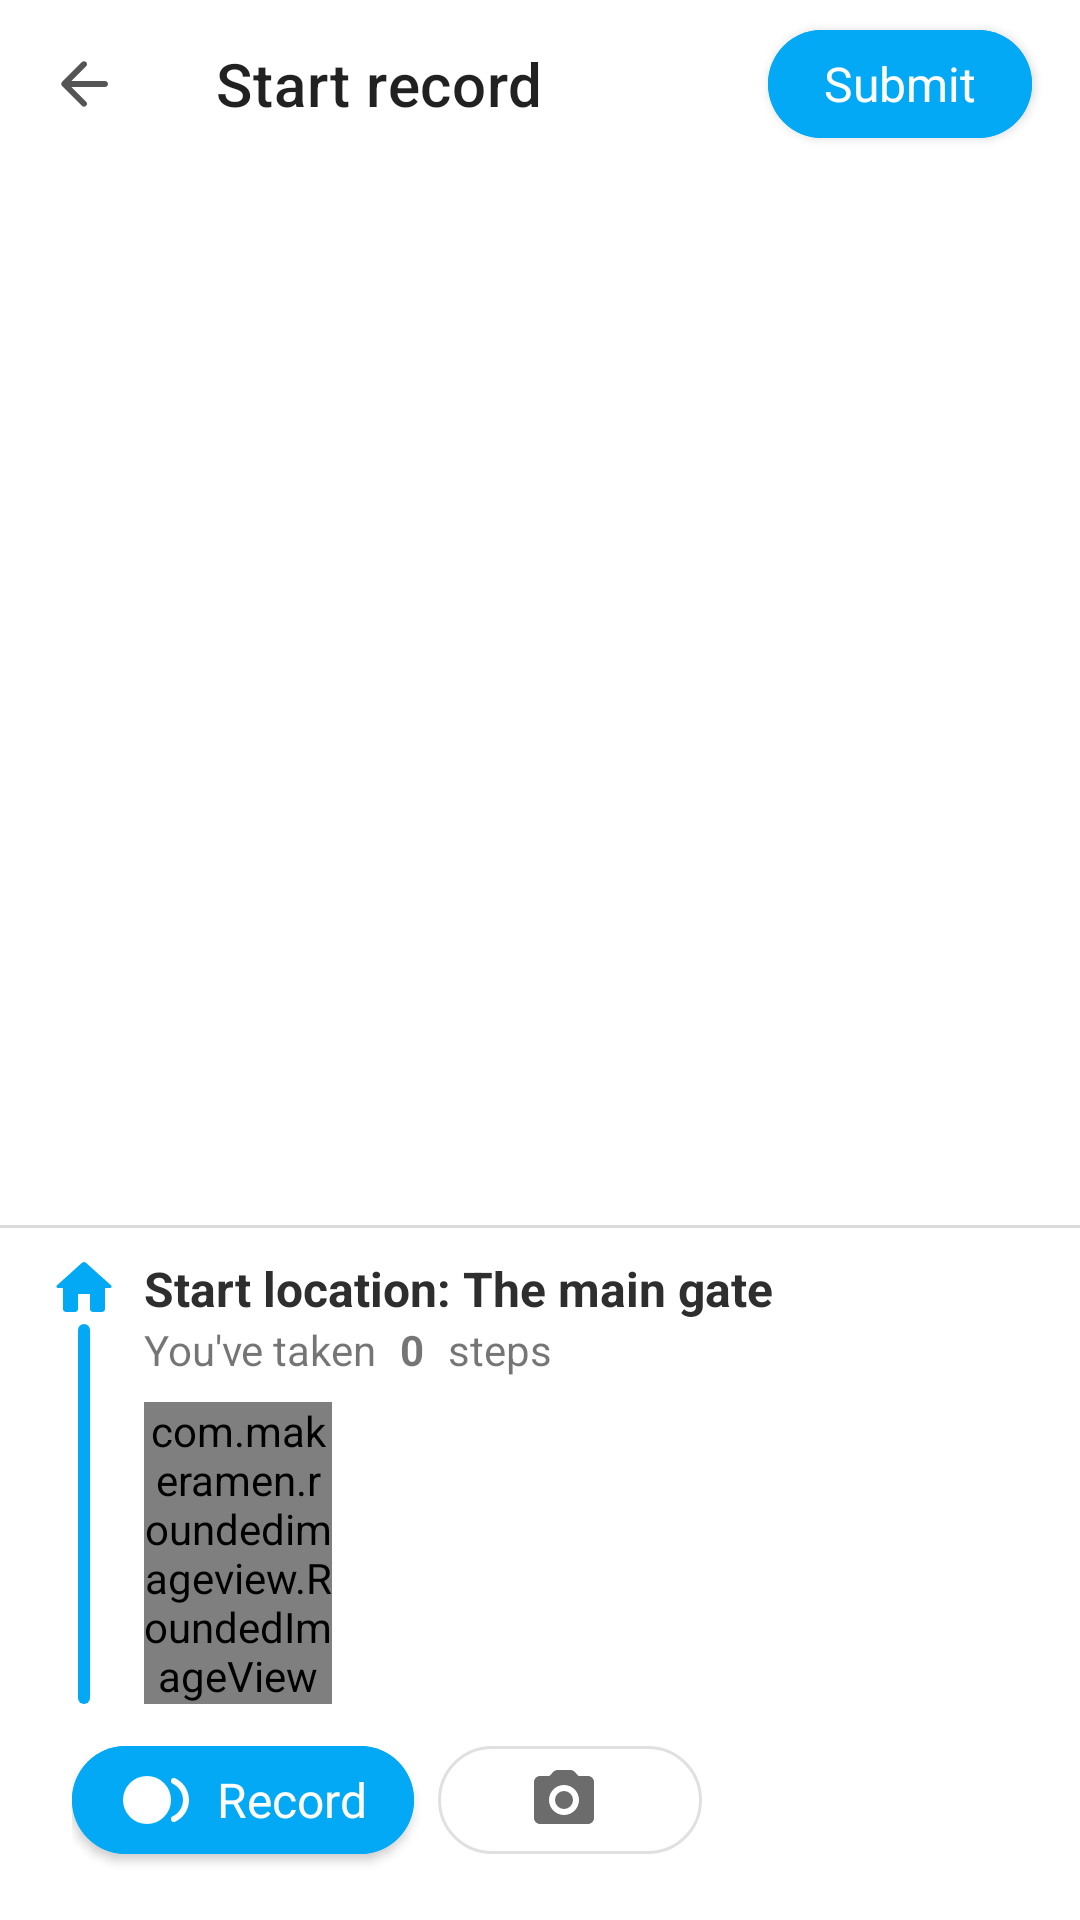

Where icons sit on this 1080x1920 app screen, as (x1, y1, x2, y2):
photo camera: (438, 1746, 702, 1854)
